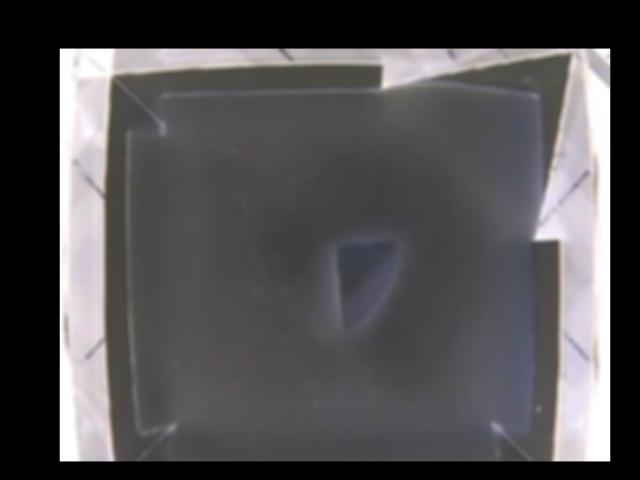Mooli: (337, 238, 401, 331)
